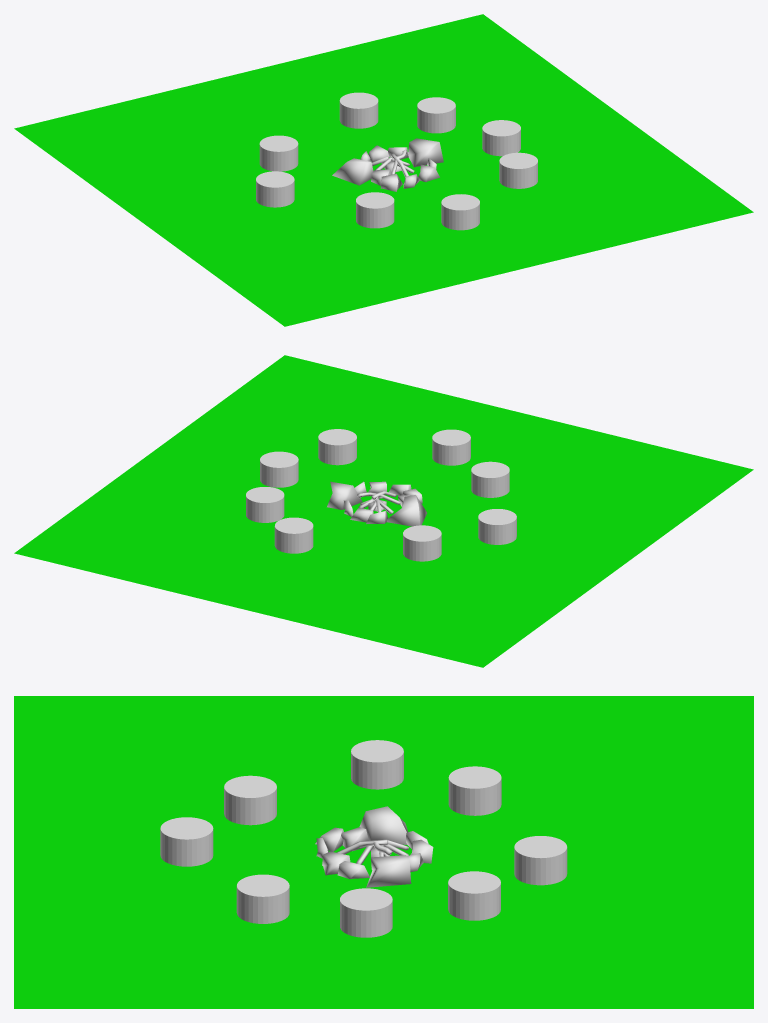
File: Campfire.fbx
3 views of the same model, one above another, from view 1: azimuth 30°, elevation 25°; view 2: azimuth 150°, elevation 25°; view 3: azimuth 270°, elevation 25° (orthographic). The views are drawn at different scales.
Visible parts, largest first — view 1: Plane, Sittin Logs, Rocks, Camp FIre; view 2: Plane, Sittin Logs, Rocks, Camp FIre; view 3: Plane, Sittin Logs, Rocks, Camp FIre.
Boxes of the visible parts, x1,y1,x2,y2 form: Plane: [14, 14, 753, 326]; Sittin Logs: [256, 92, 537, 230]; Rocks: [332, 138, 443, 191]; Camp FIre: [372, 150, 414, 177]; Plane: [14, 355, 753, 667]; Sittin Logs: [246, 429, 516, 561]; Rocks: [327, 481, 426, 526]; Camp FIre: [357, 491, 400, 513]; Plane: [14, 696, 753, 1008]; Sittin Logs: [160, 740, 567, 937]; Rocks: [315, 806, 433, 887]; Camp FIre: [336, 839, 408, 864].
Size of the model in its own units: 1600 by 84.23 by 1600.
